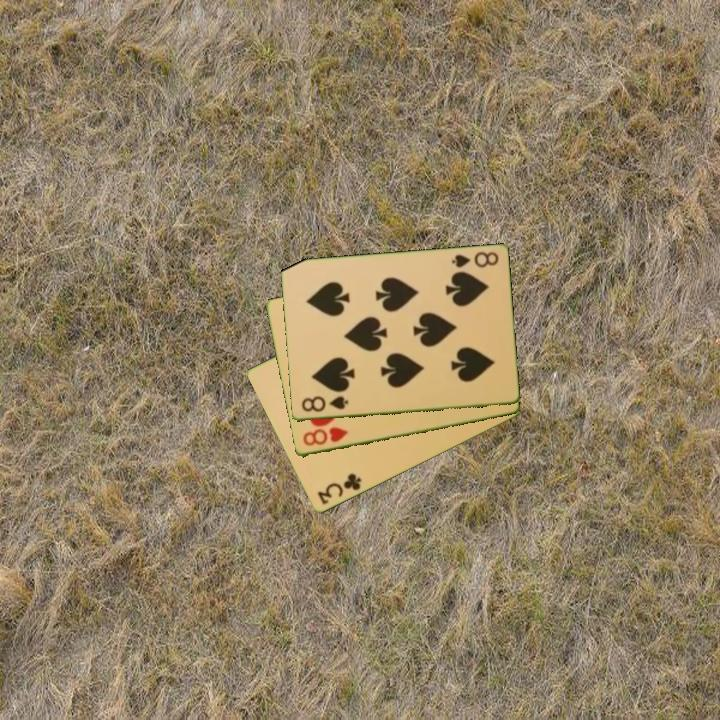3c: (313, 470, 364, 508)
8h: (299, 424, 350, 449)
8s: (448, 248, 501, 271), (298, 393, 351, 415)
